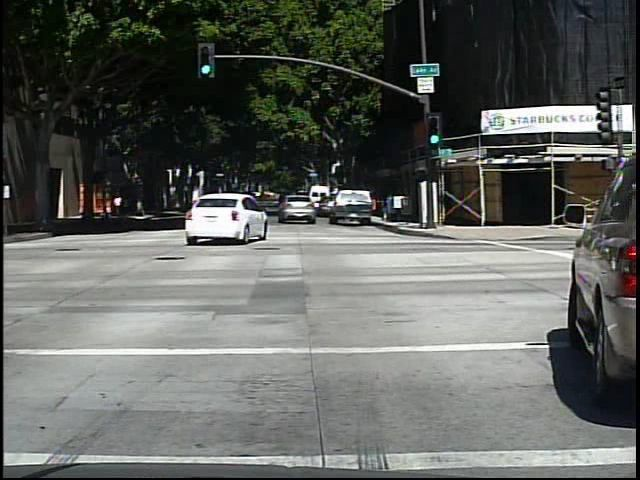person: (111, 192, 128, 222)
